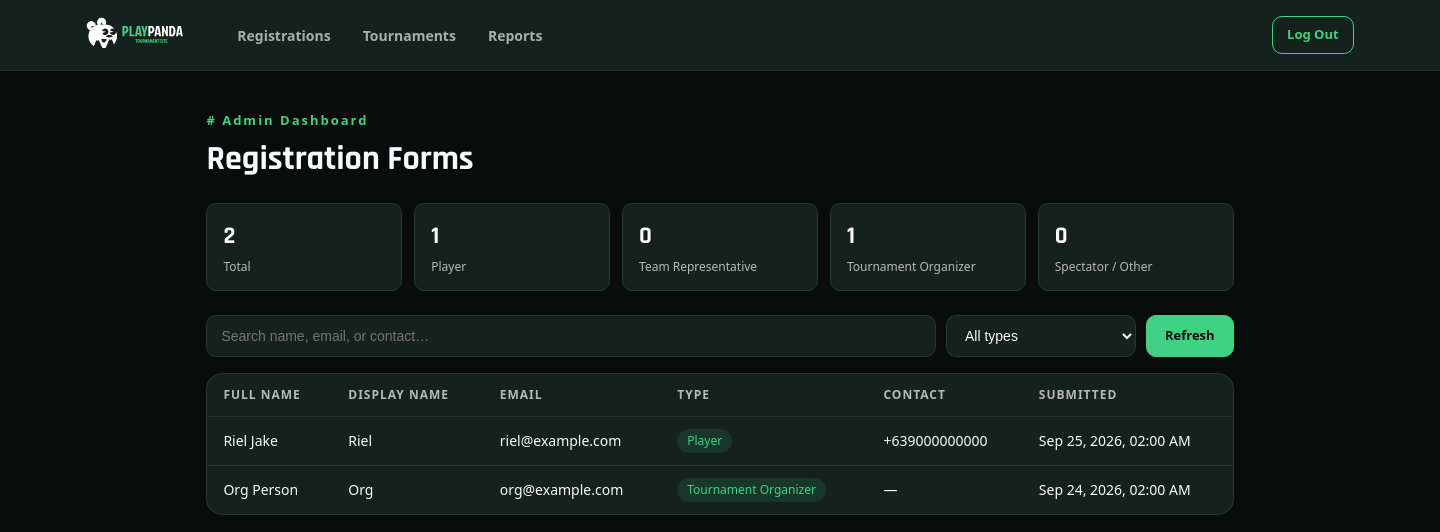
Test: AdminPage › filters by search text
Expected: the text "Riel Jake" is shown, [207, 416, 332, 465]
Type "org@" into the search field named "search registrations".
click(571, 336); type("org@")  # box [206, 315, 936, 357]
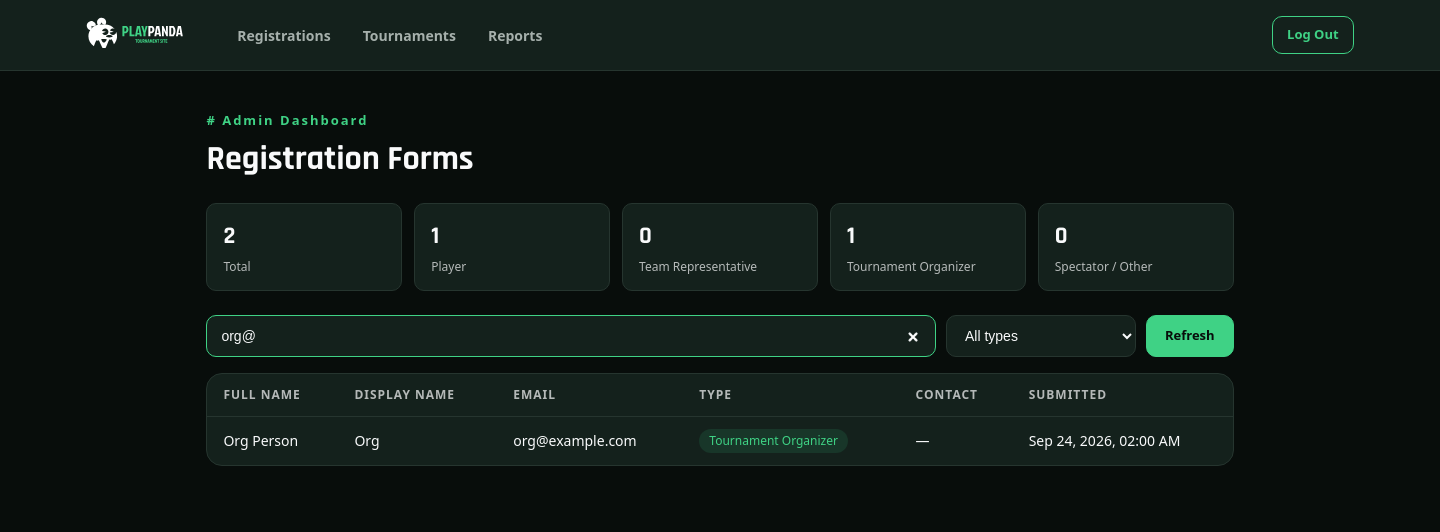
Expected: the text "Org Person" is shown, [207, 416, 338, 465]
Now the text "Riel Jake" is gone
